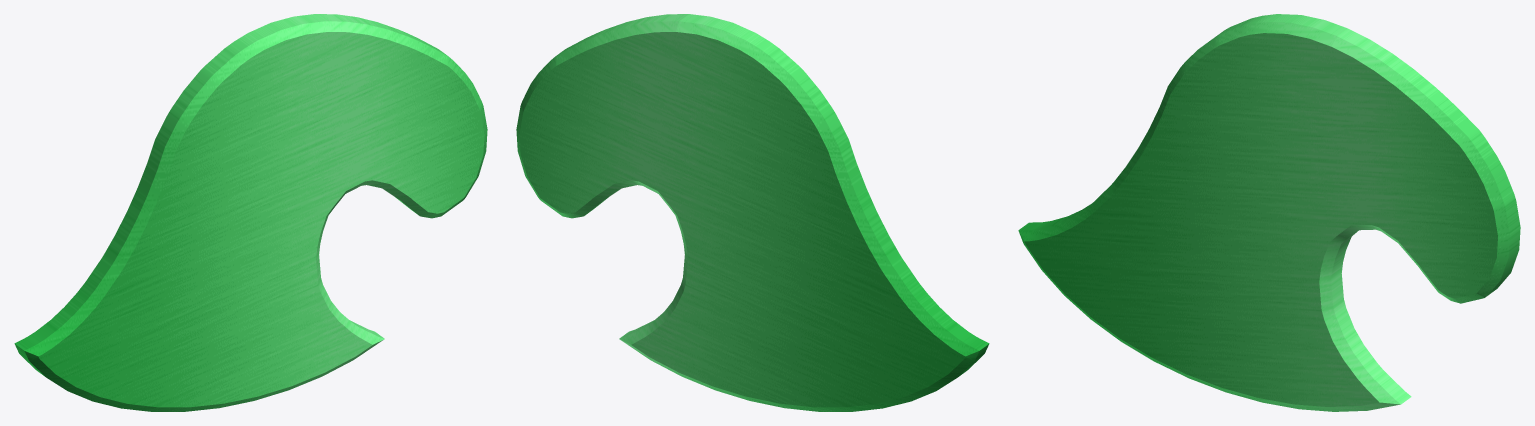
Rendered from Bar_Pumpkins_part_03.fbx.
3 views of the same model, side by side, from view 1: azimuth 30°, elevation 25°; view 2: azimuth 150°, elevation 25°; view 3: azimuth 330°, elevation 25° (orthographic). The views are drawn at different scales.
Parts seen in each view (by area): view 1: Bar_Pumpkins_part_03; view 2: Bar_Pumpkins_part_03; view 3: Bar_Pumpkins_part_03.
Part boxes in pixels (x1,y1,x2,y2): Bar_Pumpkins_part_03: (14,14,487,411); Bar_Pumpkins_part_03: (516,14,989,411); Bar_Pumpkins_part_03: (1018,14,1520,411).
Size of the model in its own units: 26.53 by 19.98 by 1.8.
